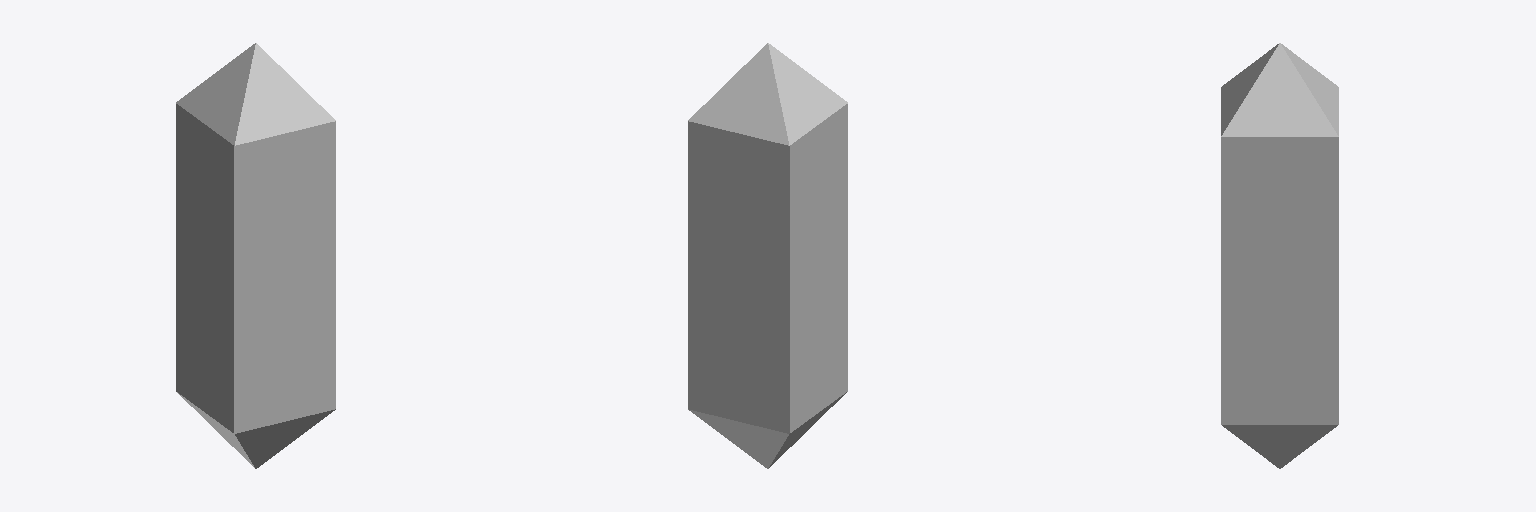
File: crystal.obj
The picture shows the model from 3 angles: view 1: azimuth 30°, elevation 25°; view 2: azimuth 150°, elevation 25°; view 3: azimuth 270°, elevation 25°; orthographic projection.
Visible parts, largest first — view 1: Cube_Cube.001; view 2: Cube_Cube.001; view 3: Cube_Cube.001.
Boxes of the visible parts, <box> form: Cube_Cube.001: <box>176,43,335,468</box>; Cube_Cube.001: <box>688,43,847,468</box>; Cube_Cube.001: <box>1221,43,1338,468</box>.
Size of the model in its own units: 0.25 by 1 by 0.25.